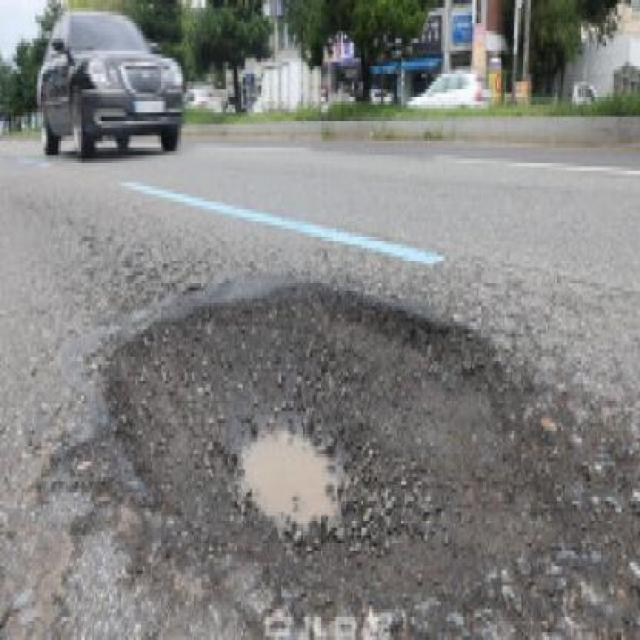Buraco: (28, 274, 640, 640)
